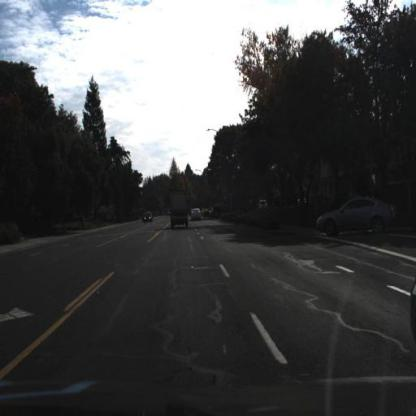car: (315, 197, 397, 242), (171, 190, 194, 235), (191, 204, 204, 223), (259, 199, 271, 212), (143, 213, 153, 226)
truck: (168, 187, 191, 235)
